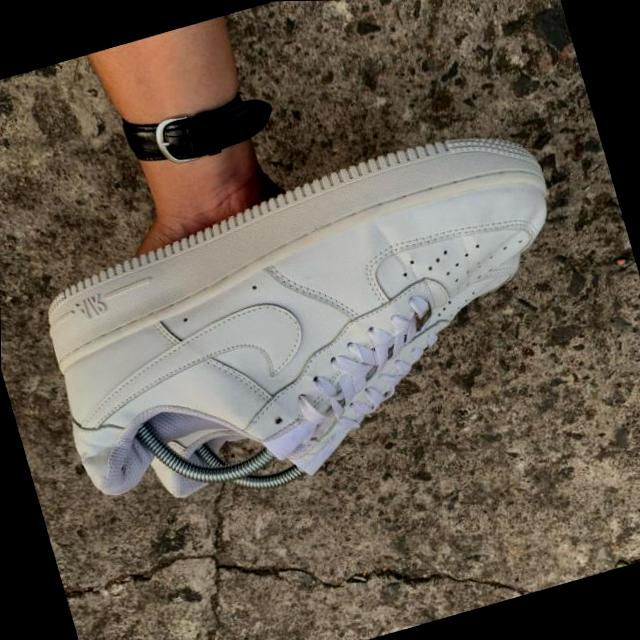nike_original_airforce: (22, 113, 613, 532)
